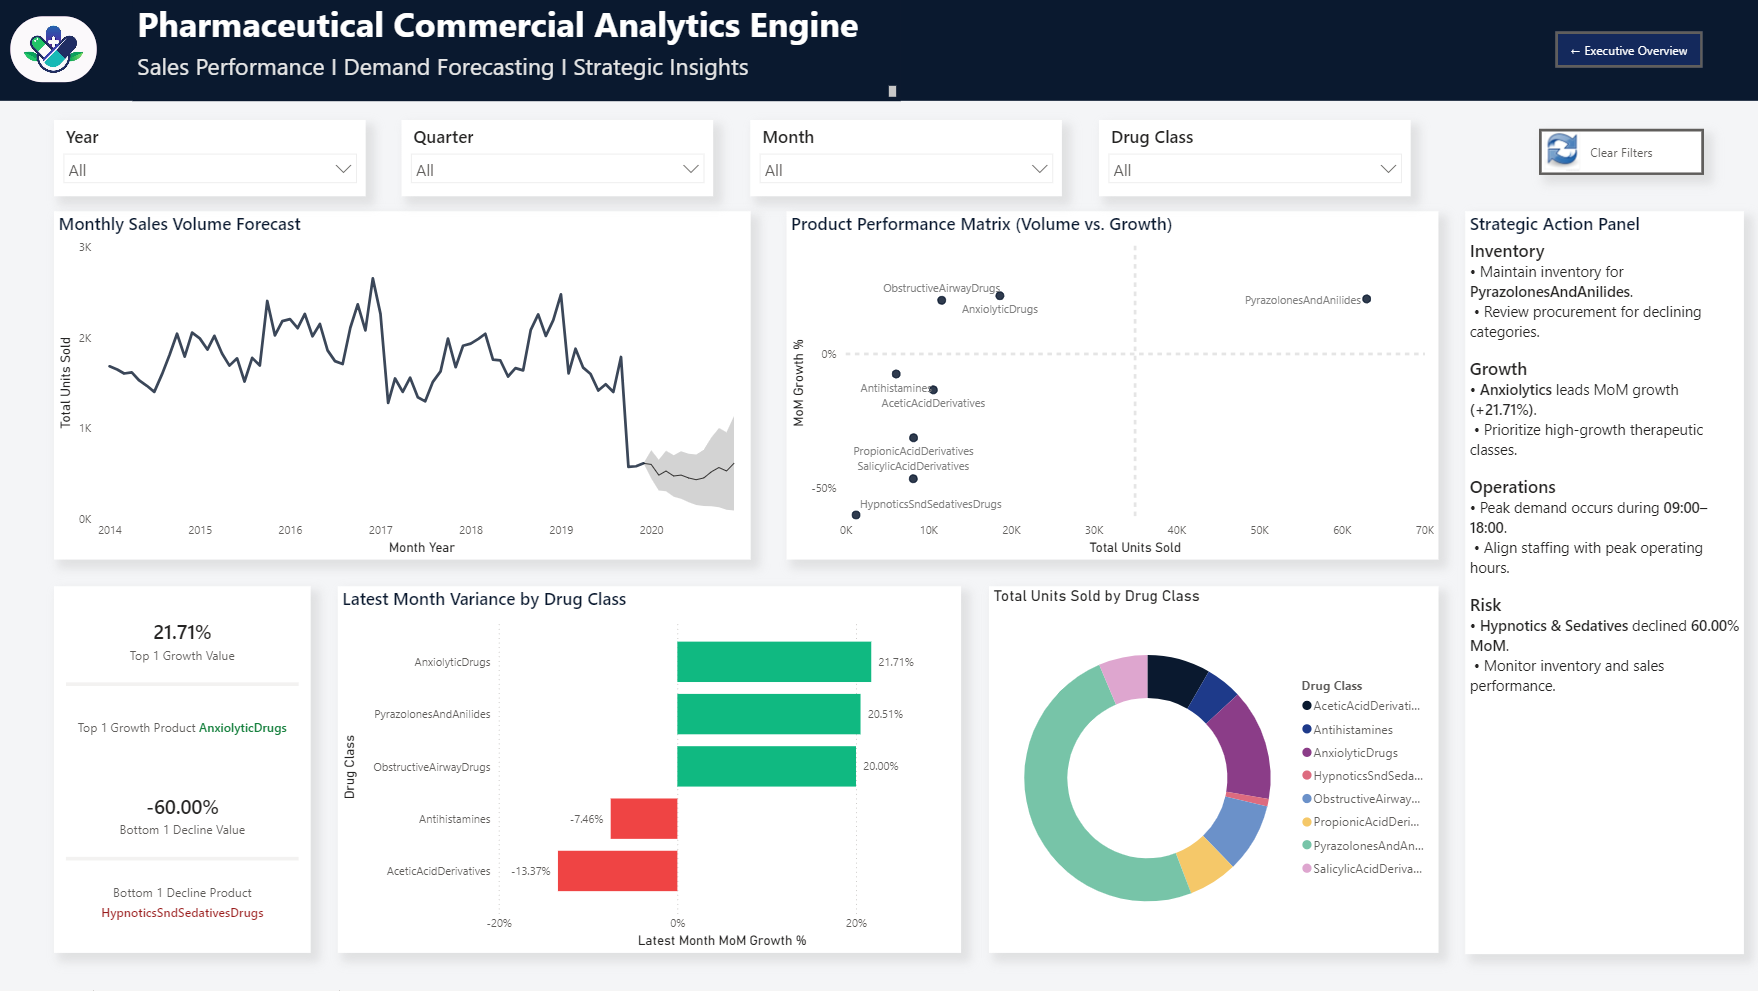

This screenshot's page, from the dashboard's own definition file:
{"tool":"powerbi","page":{"name":"Page 2","canvas":[1920,1080],"ordinal":1},"visuals":[{"type":"scatterChart","title":"Product Performance Matrix (Volume vs. Growth)","fields":{"Category":["DimDrug.Drug Class"],"X":["Measures Table.Total Units Sold"],"Y":["Measures Table.Latest Month MoM Growth %"]},"box":[859.6,229.8,711.2,380],"z":0},{"type":"clusteredBarChart","title":"Latest Month Variance by Drug Class","fields":{"Category":["FactSales.Drug Class"],"Y":["Measures Table.Latest Month MoM Growth %"]},"box":[370,640,680,400],"z":1000},{"type":"lineChart","title":"Monthly Sales Volume Forecast","fields":{"Y":["Measures Table.Total Units Sold"],"Category":["DimCalendar.Month Year"]},"box":[59.7,229.8,760,380],"z":2000},{"type":"donutChart","fields":{"Series":["FactSales.Drug Class"],"Y":["Measures Table.Total Units Sold"]},"box":[1080,640,490,400],"z":3000},{"type":"shape","title":"Pharmaceutical Commercial Analytics Engine","box":[0,0,1920,110],"z":4000},{"type":"cardVisual","title":"Market Velocity Extremes (Top vs. Bottom)","fields":{"Data":["Measures Table.Top 1 Growth Value","Measures Table.Bottom 1 Decline Value"]},"box":[60,640,280,400],"z":5000},{"type":"textbox","title":"Pharmaceutical Commercial Analytics Engine","box":[146.6,0,837.9,110.4],"z":6000},{"type":"textbox","title":"Strategic Action Panel","box":[1599.7,229.8,304,810.7],"z":7000},{"type":"actionButton","box":[1680,140,180,50.7],"z":8000},{"type":"actionButton","box":[1697.5,34.4,161.1,39.8],"z":9000},{"type":"slicer","fields":{"Values":["FactSales.Year"]},"box":[59.7,130.3,340.2,83.2],"z":10000},{"type":"slicer","fields":{"Values":["DimCalendar.Quarter"]},"box":[439.7,130.3,340.2,83.2],"z":11000},{"type":"slicer","fields":{"Values":["FactSales.Month"]},"box":[819.8,130.3,340.2,83.2],"z":12000},{"type":"slicer","fields":{"Values":["FactSales.Drug Class"]},"box":[1199.8,130.3,340.2,83.2],"z":13000},{"type":"image","box":[12.7,18.1,94.1,72.4],"z":14000}]}

Visuals, with their boxes in screenshot pixels (x1, y1, x2, y2), scaled from the page's 1920x1080 canvas onto the 1758x991 screenshot:
"Product Performance Matrix (Volume vs. Growth)" scatterChart: {"x1": 787, "y1": 211, "x2": 1438, "y2": 560}
"Latest Month Variance by Drug Class" clusteredBarChart: {"x1": 339, "y1": 587, "x2": 961, "y2": 954}
"Monthly Sales Volume Forecast" lineChart: {"x1": 55, "y1": 211, "x2": 751, "y2": 560}
donutChart - FactSales.Drug Class x Measures Table.Total Units Sold: {"x1": 989, "y1": 587, "x2": 1438, "y2": 954}
"Pharmaceutical Commercial Analytics Engine" shape: {"x1": 0, "y1": 0, "x2": 1757, "y2": 101}
"Market Velocity Extremes (Top vs. Bottom)" cardVisual: {"x1": 55, "y1": 587, "x2": 311, "y2": 954}
"Pharmaceutical Commercial Analytics Engine" textbox: {"x1": 134, "y1": 0, "x2": 901, "y2": 101}
"Strategic Action Panel" textbox: {"x1": 1465, "y1": 211, "x2": 1743, "y2": 955}
actionButton: {"x1": 1538, "y1": 128, "x2": 1703, "y2": 175}
actionButton: {"x1": 1554, "y1": 32, "x2": 1702, "y2": 68}
slicer - FactSales.Year: {"x1": 55, "y1": 120, "x2": 366, "y2": 196}
slicer - DimCalendar.Quarter: {"x1": 403, "y1": 120, "x2": 714, "y2": 196}
slicer - FactSales.Month: {"x1": 751, "y1": 120, "x2": 1062, "y2": 196}
slicer - FactSales.Drug Class: {"x1": 1099, "y1": 120, "x2": 1410, "y2": 196}
image: {"x1": 12, "y1": 17, "x2": 98, "y2": 83}
